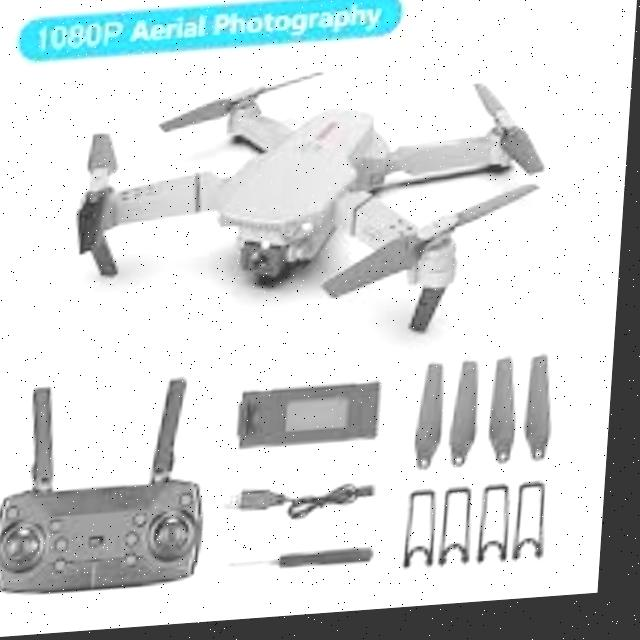drone: (59, 55, 560, 377)
